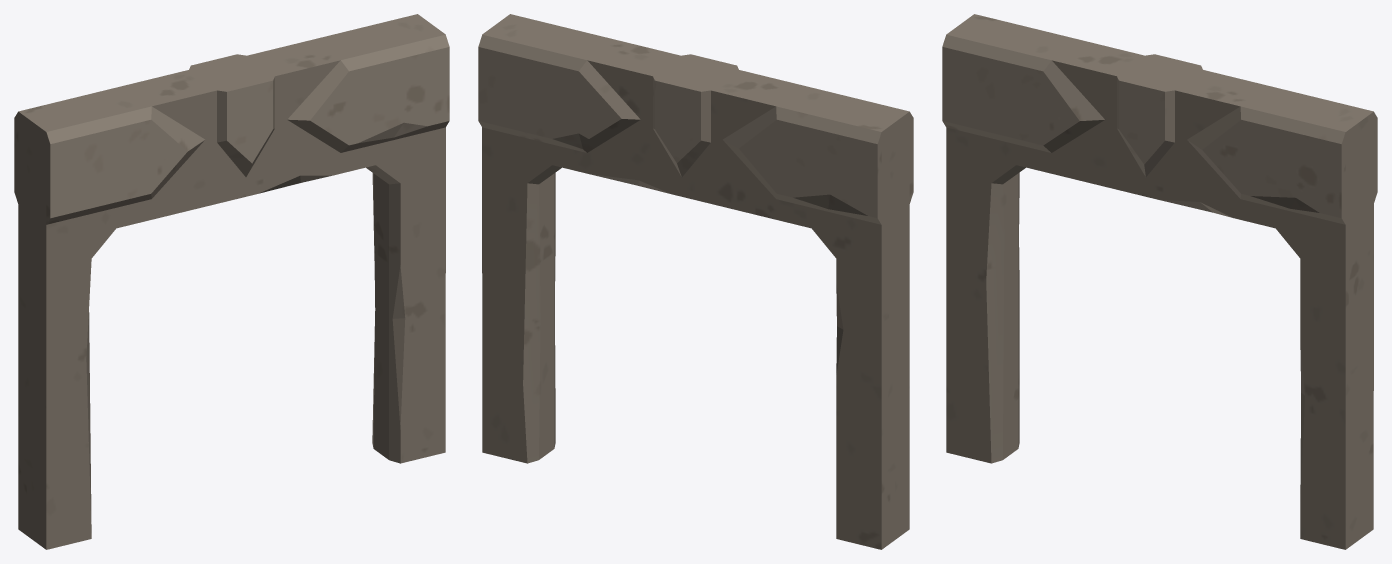
The model's file is wall_arch.glb.
3 views of the same model, side by side, from view 1: azimuth 30°, elevation 25°; view 2: azimuth 150°, elevation 25°; view 3: azimuth 330°, elevation 25° (orthographic).
Visible parts, largest first — view 1: SM_Env_Dwarf_Wall_Archway_01; view 2: SM_Env_Dwarf_Wall_Archway_01; view 3: SM_Env_Dwarf_Wall_Archway_01.
Boxes of the visible parts, x1,y1,x2,y2 form: SM_Env_Dwarf_Wall_Archway_01: (14, 14, 449, 549); SM_Env_Dwarf_Wall_Archway_01: (478, 14, 913, 549); SM_Env_Dwarf_Wall_Archway_01: (942, 14, 1377, 549).
Size of the model in its own units: 5 by 5 by 0.78.
1 material, 1 textured.
